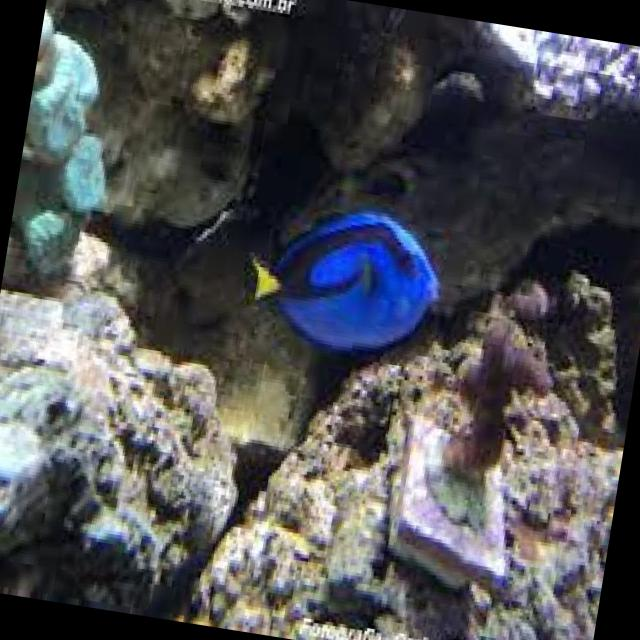TangFish: (236, 190, 450, 362)
